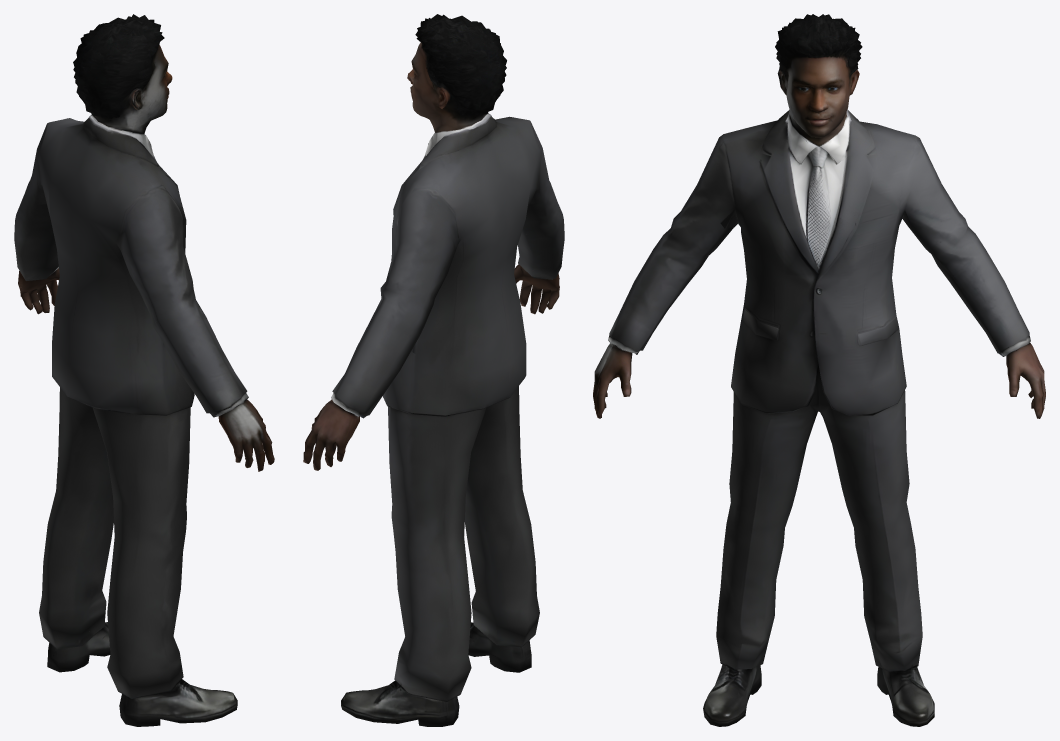
File: bila.glb
3 renders of one model, left to right at view 1: azimuth 30°, elevation 25°; view 2: azimuth 150°, elevation 25°; view 3: azimuth 270°, elevation 25°, orthographic.
Parts seen in each view (by area): view 1: tripo_node_358e58de-da4b-4d6b-ab9c-b79ff7e28c07; view 2: tripo_node_358e58de-da4b-4d6b-ab9c-b79ff7e28c07; view 3: tripo_node_358e58de-da4b-4d6b-ab9c-b79ff7e28c07.
Boxes of the visible parts, bbox=[...] form: tripo_node_358e58de-da4b-4d6b-ab9c-b79ff7e28c07: bbox=[14, 14, 274, 726]; tripo_node_358e58de-da4b-4d6b-ab9c-b79ff7e28c07: bbox=[303, 14, 564, 726]; tripo_node_358e58de-da4b-4d6b-ab9c-b79ff7e28c07: bbox=[593, 14, 1045, 726].
Size of the model in its own units: 0.1895 by 0.998 by 0.6035.
1 material, 1 textured.
